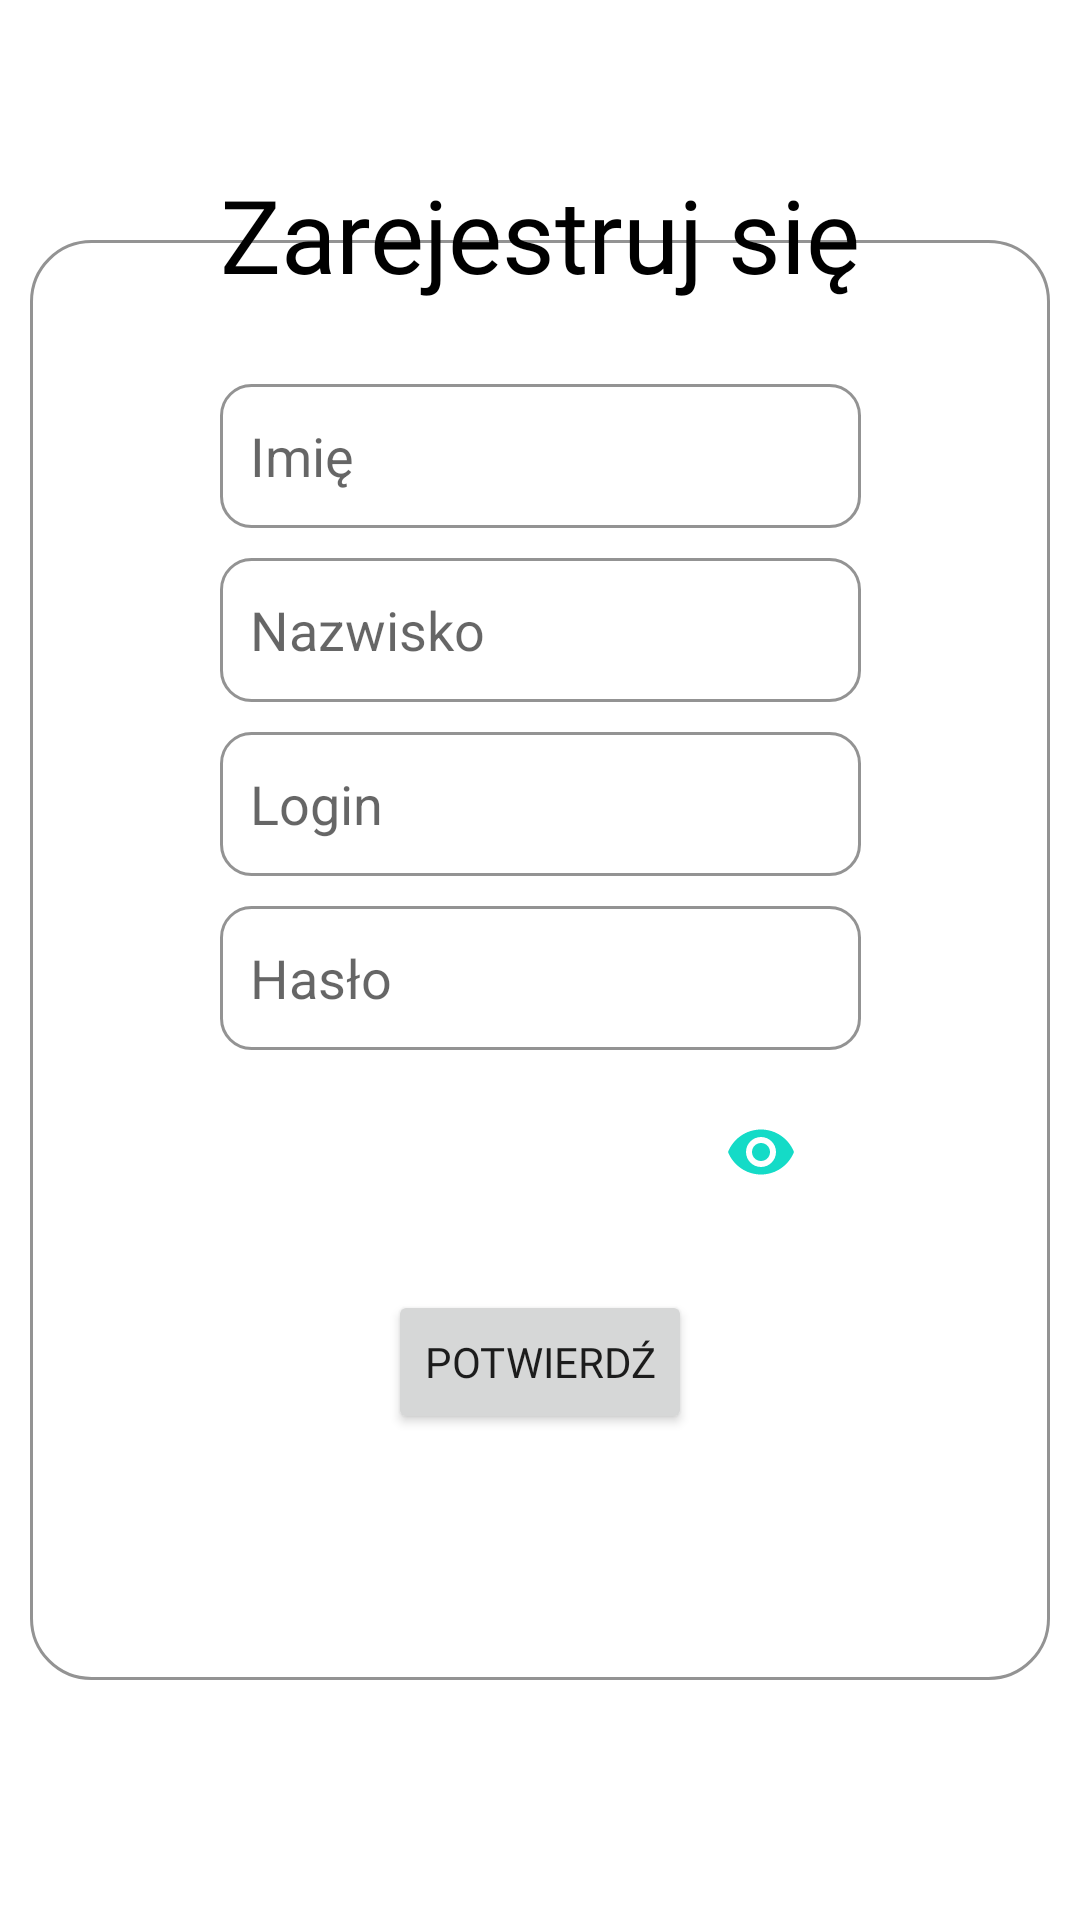

Named icons in this screenshot (1080×1920) and their centers, (x=x, y=y):
eye: (x=761, y=1152)
